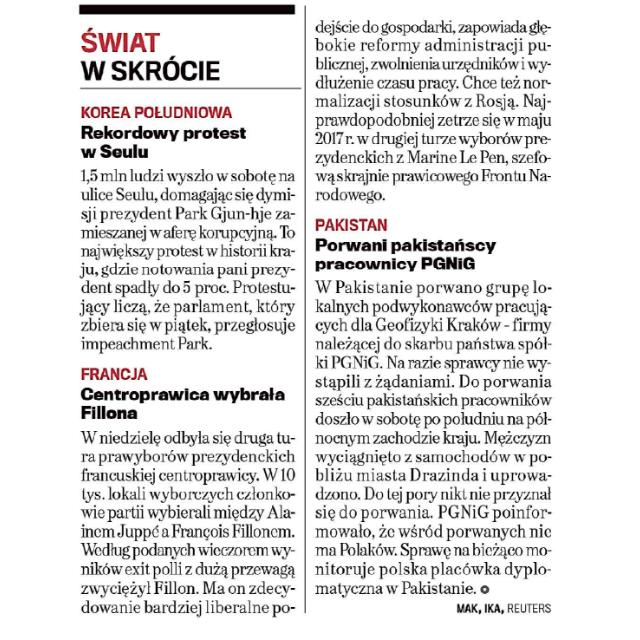body: (309, 277, 556, 597), (310, 12, 554, 205), (76, 426, 298, 618), (78, 166, 298, 357)
lead: (311, 208, 513, 276), (77, 362, 291, 423), (78, 96, 264, 164)
title: (77, 20, 277, 84)
